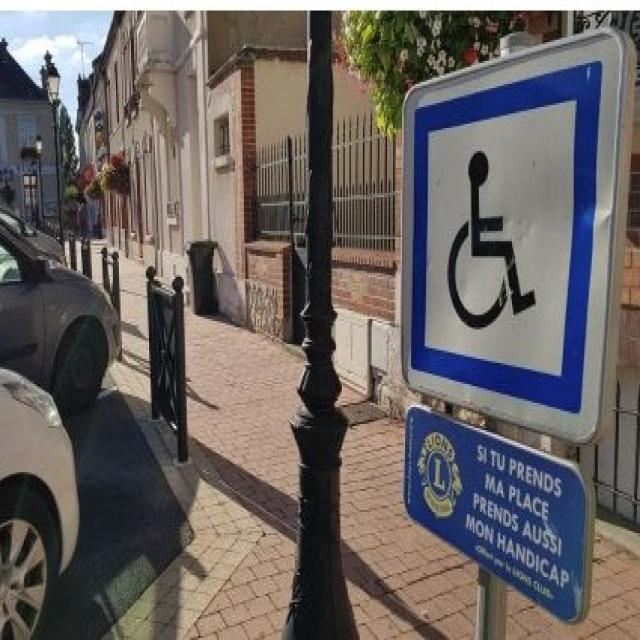symbol_of_access: (398, 24, 634, 449)
